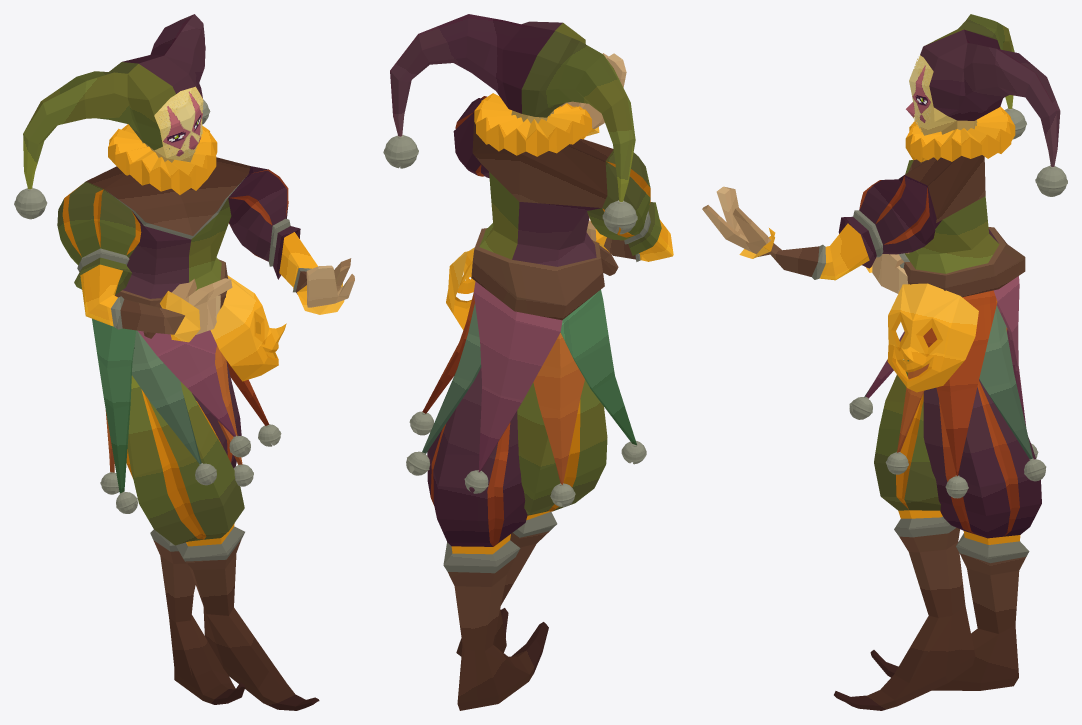
The model's file is low_poly_jester.glb.
3 views of the same model, side by side, from view 1: azimuth 30°, elevation 25°; view 2: azimuth 150°, elevation 25°; view 3: azimuth 270°, elevation 25° (orthographic). The views are drawn at different scales.
Parts seen in each view (by area): view 1: Base.005_Material.040_0; view 2: Base.005_Material.040_0; view 3: Base.005_Material.040_0.
Boxes of the visible parts, <box> form: Base.005_Material.040_0: <box>14,14,354,710</box>; Base.005_Material.040_0: <box>383,14,673,710</box>; Base.005_Material.040_0: <box>702,14,1067,710</box>.
Bounding box in the file's own units: 5.75 × 15.06 × 7.79.
Materials: 2 (2 with a texture image).
